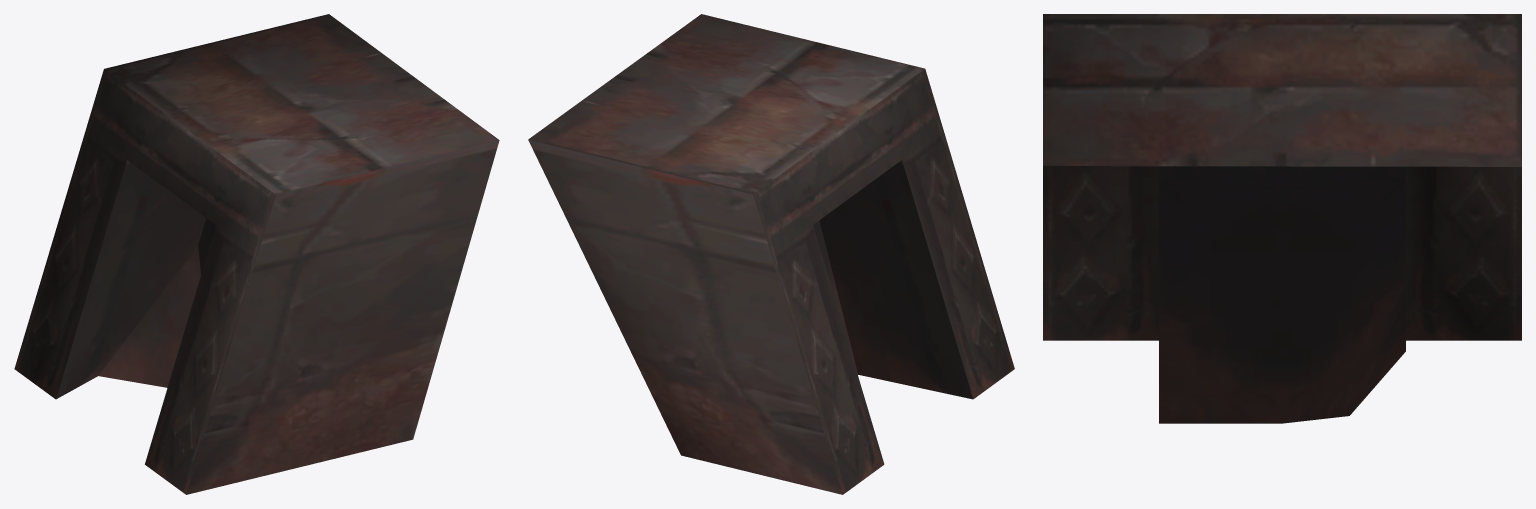
File: tlfb03_men_01.FBX
The picture shows the model from 3 angles, left to right: view 1: azimuth 30°, elevation 25°; view 2: azimuth 150°, elevation 25°; view 3: azimuth 270°, elevation 25°; orthographic projection. The views are drawn at different scales.
Parts seen in each view (by area): view 1: tlfb03_men; view 2: tlfb03_men; view 3: tlfb03_men.
Part boxes in pixels (x1,y1,x2,y2): tlfb03_men: (14,14,499,494); tlfb03_men: (528,14,1014,494); tlfb03_men: (1043,14,1521,423).
Bounding box in the file's own units: 495 × 423 × 468.
